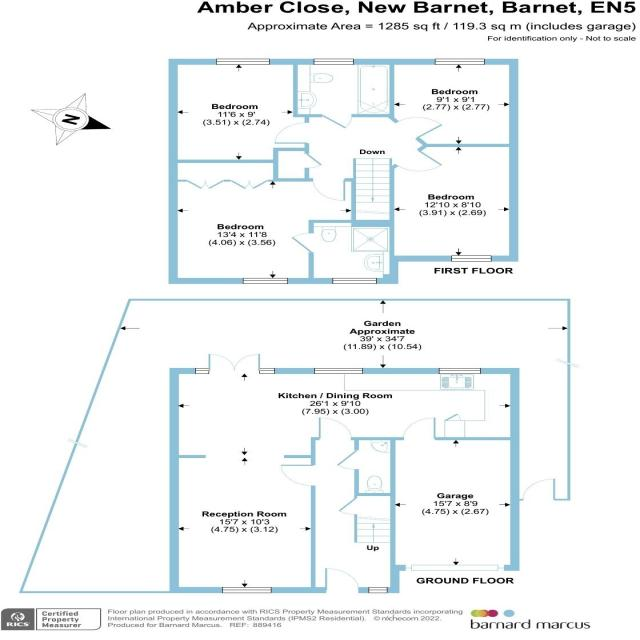DOOR: (393, 116, 443, 140), (394, 148, 443, 172), (324, 568, 360, 593), (401, 416, 437, 440), (274, 121, 309, 145), (310, 178, 346, 201), (279, 464, 315, 487), (318, 417, 353, 440)
ROOM: (169, 353, 520, 593), (168, 159, 356, 285), (389, 144, 518, 262), (168, 58, 309, 164), (390, 58, 518, 147)
WINDOW: (432, 58, 486, 66), (241, 277, 289, 285), (331, 277, 378, 285), (313, 368, 364, 375), (221, 587, 272, 594), (214, 59, 270, 65), (312, 58, 355, 65), (438, 367, 481, 374), (450, 255, 492, 262), (367, 587, 389, 594), (258, 368, 275, 375), (194, 368, 209, 374)
